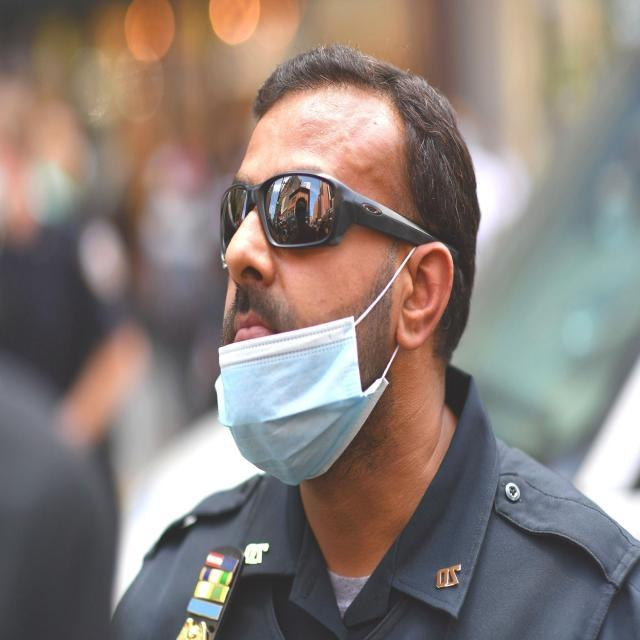hairnet: (215, 56, 478, 502)
